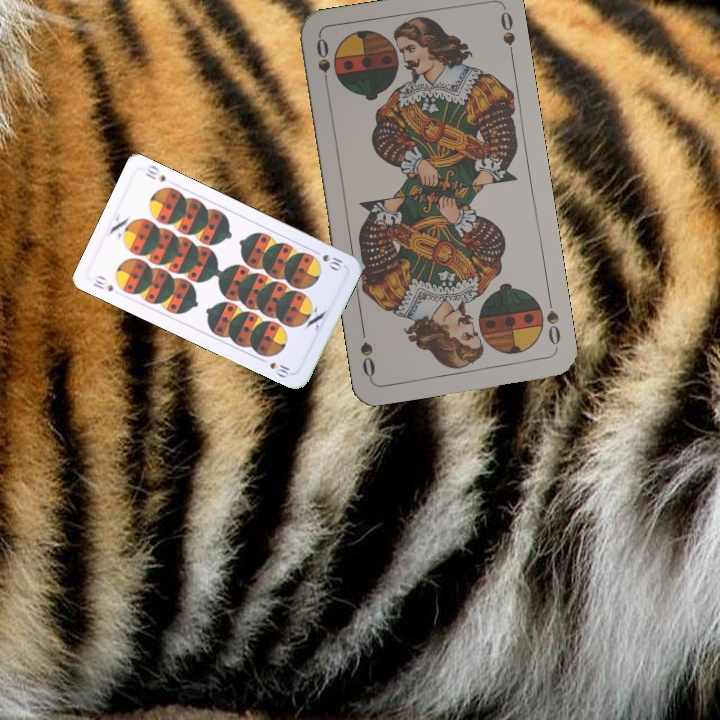S10: (309, 246, 347, 273), (89, 271, 116, 294)
SO: (542, 292, 563, 352), (312, 34, 333, 93)
